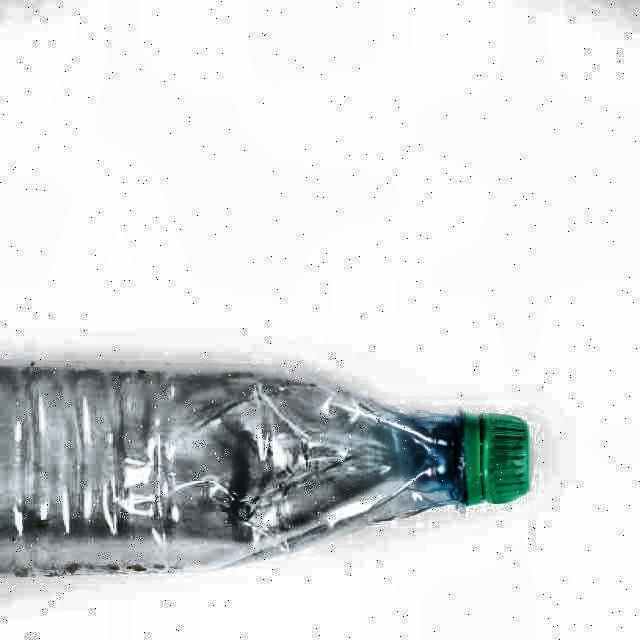plastic: (0, 365, 528, 573)
